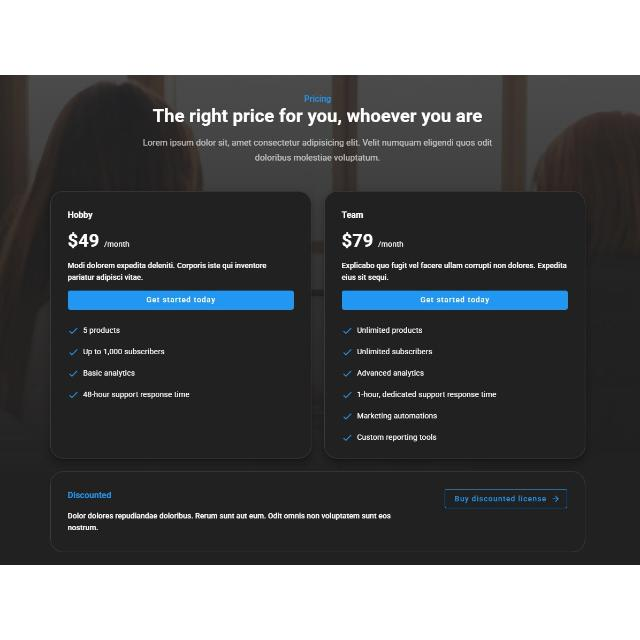QLabel: (152, 108, 484, 128), (66, 512, 392, 532), (337, 260, 569, 282), (66, 260, 270, 282), (141, 139, 495, 149), (356, 389, 496, 398), (254, 153, 380, 163), (83, 392, 191, 401), (454, 494, 546, 504), (356, 433, 442, 442), (82, 348, 166, 357), (355, 368, 427, 378), (355, 412, 439, 420), (357, 348, 433, 356), (144, 296, 218, 304), (354, 326, 424, 334), (421, 297, 489, 305), (68, 232, 98, 250), (342, 232, 373, 248), (82, 369, 136, 378), (66, 490, 112, 500), (302, 93, 332, 105), (82, 326, 122, 334), (64, 210, 94, 220), (103, 240, 131, 248), (377, 240, 405, 248), (341, 211, 364, 219)
VBtn: (67, 289, 295, 311), (342, 290, 568, 310), (444, 489, 568, 509)
VCard: (50, 191, 312, 461), (324, 190, 586, 460), (49, 469, 588, 555)
VIcon: (68, 326, 78, 336), (342, 328, 352, 334), (68, 349, 78, 355), (342, 349, 352, 355), (68, 371, 78, 377), (342, 371, 352, 377), (342, 392, 352, 398), (342, 414, 352, 420), (68, 392, 78, 398), (342, 435, 352, 441), (552, 496, 560, 502)
